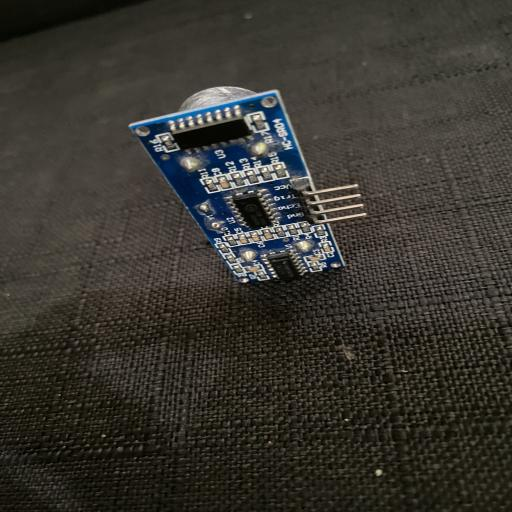Ultrasonic Sensor: (128, 86, 367, 284)
